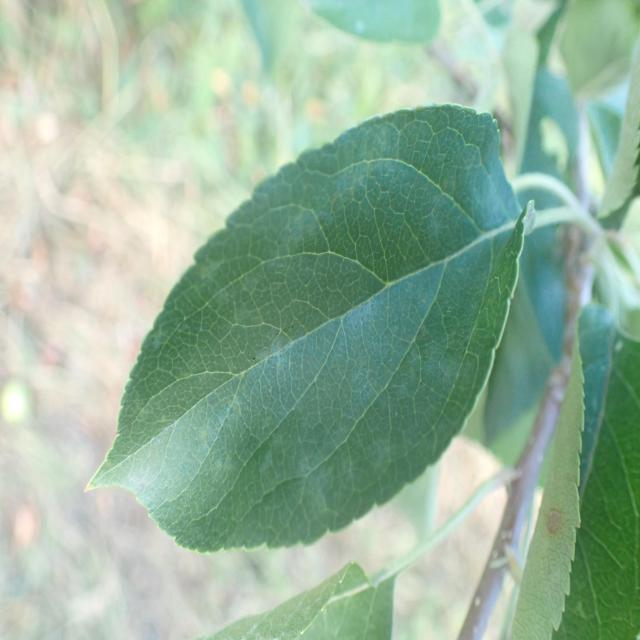Powdery_mildew: (91, 102, 530, 561)
